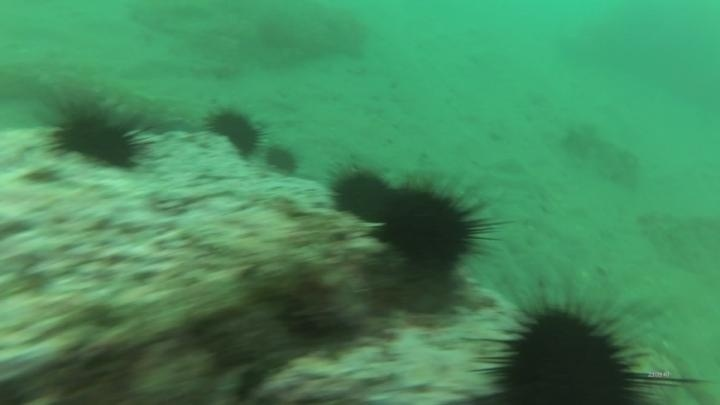echinus: (479, 294, 652, 403), (375, 181, 488, 277), (43, 96, 151, 173), (325, 161, 397, 228), (204, 104, 268, 161), (262, 142, 302, 178)
